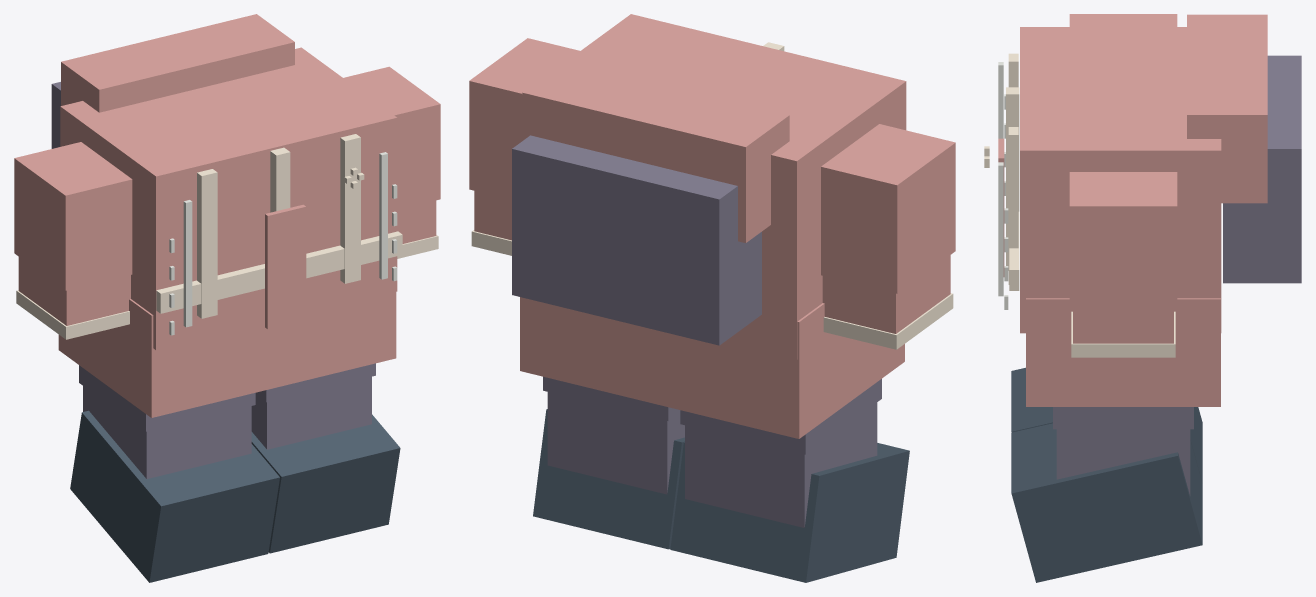
File: raincoat-coral.glb
3 renders of one model, left to right at view 1: azimuth 30°, elevation 25°; view 2: azimuth 150°, elevation 25°; view 3: azimuth 270°, elevation 25°, orthographic. The views are drawn at different scales.
Visible parts, largest first — view 1: jacket, coat-tails, shoe-Right, upper-sleeve-Right, rain-hood, shoe-Left, lower-trouser-Right, upper-sleeve-Left, lower-trouser-Left, design-raincoat-storm-flap, lower-sleeve-Right, reflective-band (+11 smaller); view 2: backpack, jacket, coat-tails, rain-hood, upper-sleeve-Right, shoe-Right, lower-trouser-Right, lower-trouser-Left, shoe-Left, upper-sleeve-Left, lower-sleeve-Right, trouser-Right (+4 smaller); view 3: jacket, shoe-Left, coat-tails, upper-sleeve-Left, rain-hood, backpack, lower-trouser-Left, lower-sleeve-Left, trouser-Left, shoe-Right, cuff-Left, upper-sleeve-Right (+5 smaller).
Boxes of the visible parts, left/top/right/bottom form: jacket: left=60, top=47, right=397, bottom=350; coat-tails: left=58, top=292, right=396, bottom=417; shoe-Right: left=70, top=410, right=279, bottom=582; upper-sleeve-Right: left=14, top=142, right=132, bottom=290; rain-hood: left=61, top=14, right=294, bottom=112; shoe-Left: left=251, top=414, right=400, bottom=553; lower-trouser-Right: left=83, top=386, right=251, bottom=478; upper-sleeve-Left: left=343, top=66, right=440, bottom=209; lower-trouser-Left: left=251, top=376, right=371, bottom=449; design-raincoat-storm-flap: left=265, top=204, right=306, bottom=329; lower-sleeve-Right: left=18, top=257, right=130, bottom=325; reflective-band: left=156, top=231, right=402, bottom=313; backpack: left=512, top=135, right=761, bottom=345; jacket: left=521, top=14, right=906, bottom=359; coat-tails: left=520, top=297, right=904, bottom=438; rain-hood: left=522, top=60, right=789, bottom=242; upper-sleeve-Right: left=821, top=124, right=955, bottom=293; shoe-Right: left=670, top=442, right=909, bottom=582; lower-trouser-Right: left=685, top=402, right=877, bottom=527; lower-trouser-Left: left=547, top=392, right=684, bottom=494; shoe-Left: left=533, top=409, right=684, bottom=549; upper-sleeve-Left: left=469, top=38, right=579, bottom=199; lower-sleeve-Right: left=822, top=255, right=950, bottom=333; trouser-Right: left=680, top=379, right=881, bottom=454; jacket: left=1020, top=27, right=1221, bottom=333; shoe-Left: left=1011, top=423, right=1202, bottom=582; coat-tails: left=1026, top=298, right=1220, bottom=406; upper-sleeve-Left: left=1069, top=172, right=1177, bottom=305; rain-hood: left=1187, top=14, right=1267, bottom=203; backpack: left=1223, top=55, right=1301, bottom=283; lower-trouser-Left: left=1056, top=429, right=1190, bottom=495; lower-sleeve-Left: left=1073, top=306, right=1173, bottom=343; trouser-Left: left=1053, top=407, right=1193, bottom=429; shoe-Right: left=1011, top=367, right=1202, bottom=483; cuff-Left: left=1071, top=311, right=1175, bottom=357; upper-sleeve-Right: left=1069, top=14, right=1177, bottom=26.
Size of the model in its own units: 1.07 by 1.19 by 0.748.
